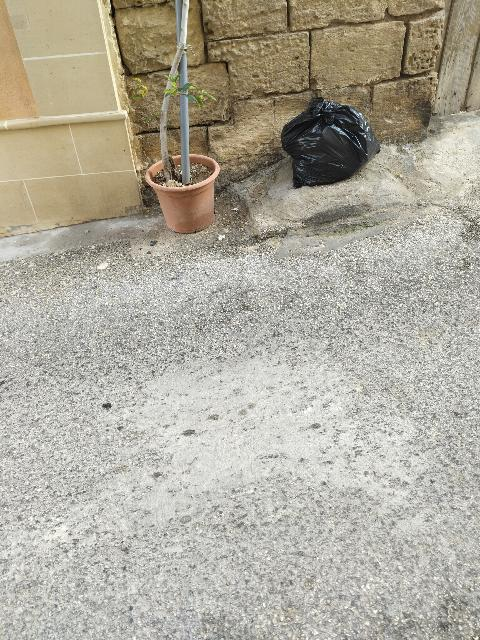Mixed -Black-: (281, 98, 380, 188)
